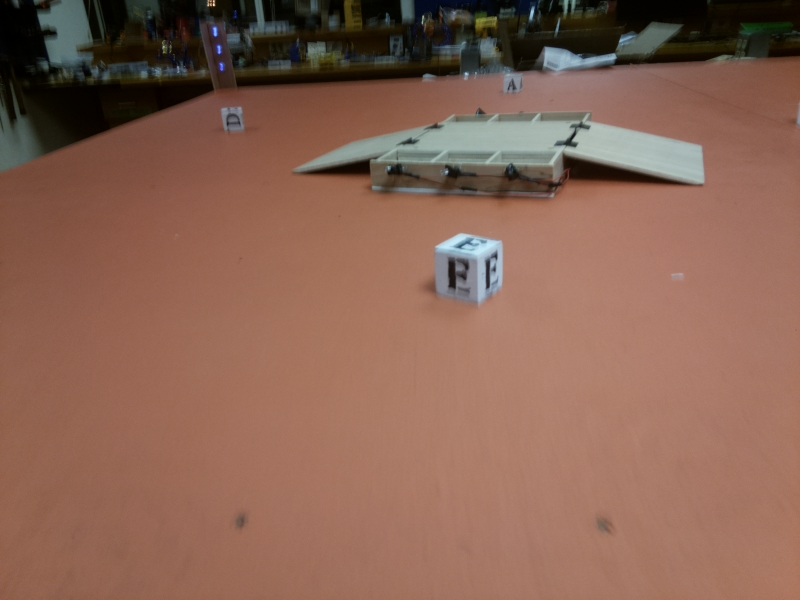blockA: (500, 71, 526, 92)
blockD: (219, 105, 246, 130)
blockE: (429, 234, 508, 308)
corner: (195, 17, 237, 94)
side: (371, 156, 559, 200), (450, 105, 589, 114)
slope: (568, 120, 712, 193), (291, 125, 419, 174)
